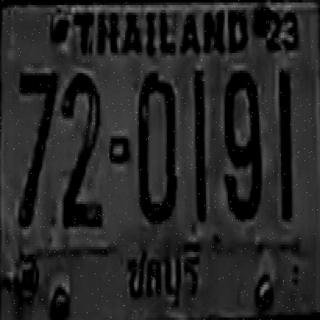N00: (137, 70, 175, 220)
N01: (278, 70, 292, 220), (193, 70, 205, 220)
N02: (60, 72, 101, 226)
N07: (18, 71, 57, 222), (18, 71, 57, 179)
N09: (223, 68, 261, 217)
P13: (118, 239, 200, 312)
